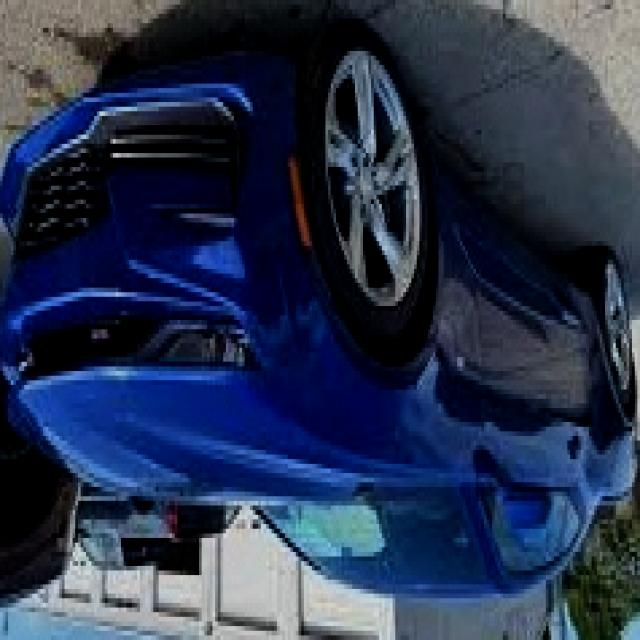blue: (0, 47, 635, 608)
